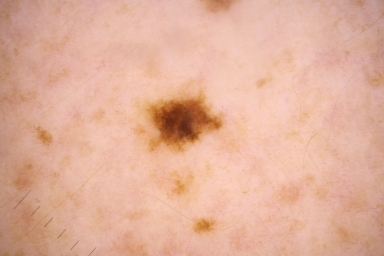melanoma: (147, 99, 221, 152)
